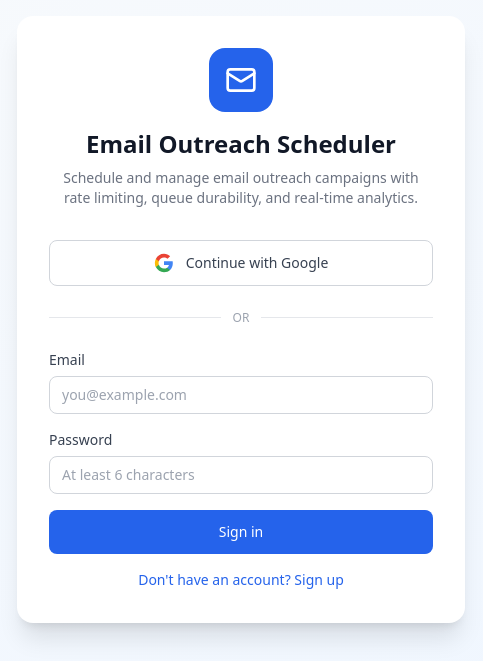
LoginPage › toggles to sign-up mode when the toggle link is clicked
The width and height of the screenshot is (483, 661).
What coordinates should you click on to do the following:
click the button "Don't have an account? Sign up"
I would click on:
 (241, 580)
Its box is left=49, top=570, right=433, bottom=590.
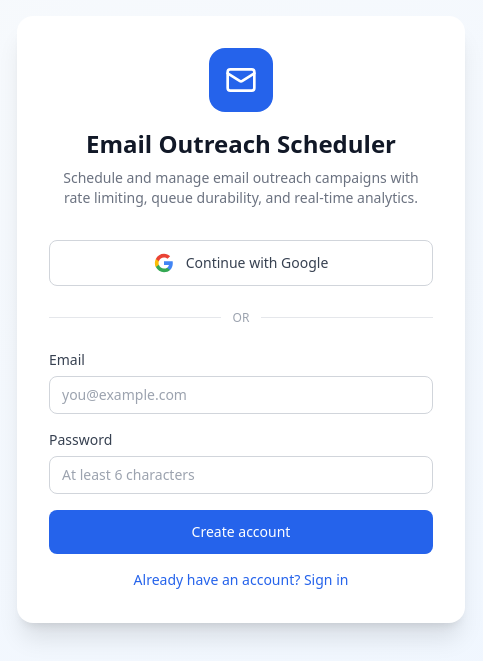
Expected: the button "Create account" is shown, left=49, top=510, right=433, bottom=554
